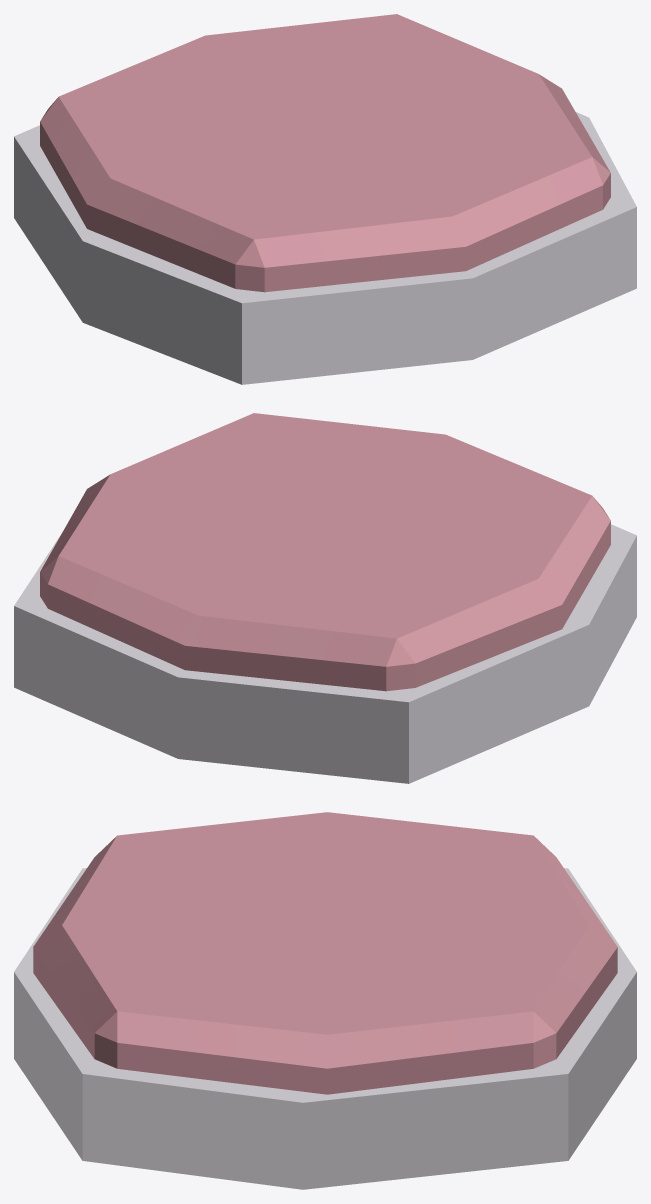
Rendered from weight-plate-red-idleUP.fbx.
3 renders of one model, top to bottom at view 1: azimuth 30°, elevation 25°; view 2: azimuth 150°, elevation 25°; view 3: azimuth 270°, elevation 25°, orthographic. The views are drawn at different scales.
Parts seen in each view (by area): view 1: weight_plate, weight_plate_base; view 2: weight_plate, weight_plate_base; view 3: weight_plate, weight_plate_base.
Part boxes in pixels (<box>): weight_plate: <box>40,14,610,292</box>; weight_plate_base: <box>14,112,636,384</box>; weight_plate: <box>40,413,610,691</box>; weight_plate_base: <box>14,524,636,783</box>; weight_plate: <box>33,812,617,1094</box>; weight_plate_base: <box>14,868,636,1189</box>.
Size of the model in its own units: 4.1 by 0.9786 by 4.1.
2 materials, 2 textured.
